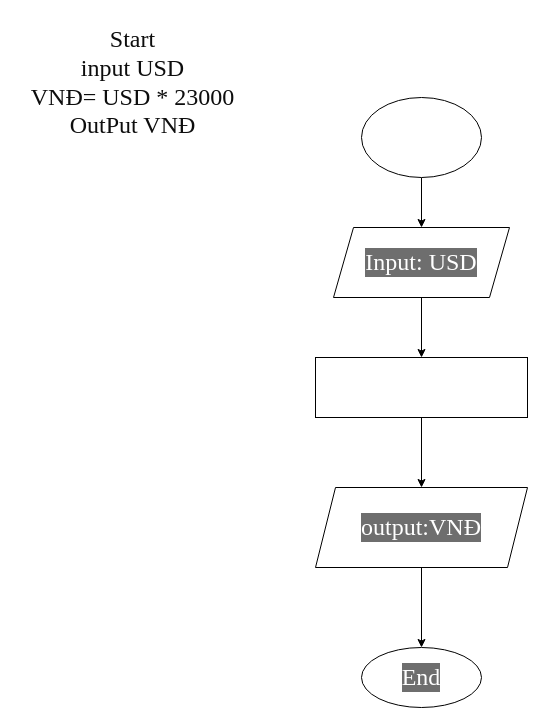
The diagram is 545 pixels wide and 725 high, and some of its shapes have lost their labels. The shapes that lost their labels are listed below. From the top down, each one's centre as x and y in pixels, then its label:
point 421,137: Start
point 421,387: VNĐ=USD*23000
